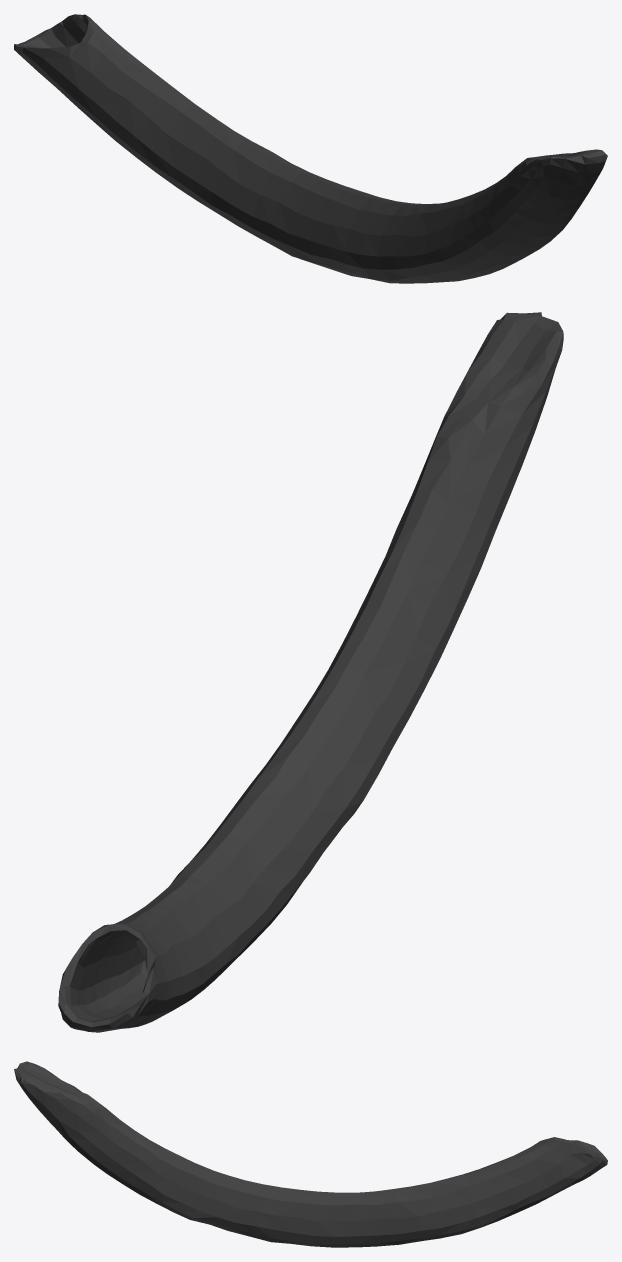
The model's file is Incisor_bottom.glb.
3 renders of one model, top to bottom at view 1: azimuth 30°, elevation 25°; view 2: azimuth 150°, elevation 25°; view 3: azimuth 270°, elevation 25°, orthographic. The views are drawn at different scales.
Parts seen in each view (by area): view 1: Incisor_bottom; view 2: Incisor_bottom; view 3: Incisor_bottom.
Boxes of the visible parts, <box> form: Incisor_bottom: <box>14,14,607,283</box>; Incisor_bottom: <box>58,312,563,1032</box>; Incisor_bottom: <box>14,1061,607,1247</box>.
Bounding box in the file's own units: 0.4237 × 0.7065 × 2.07.
1 material, 1 textured.
